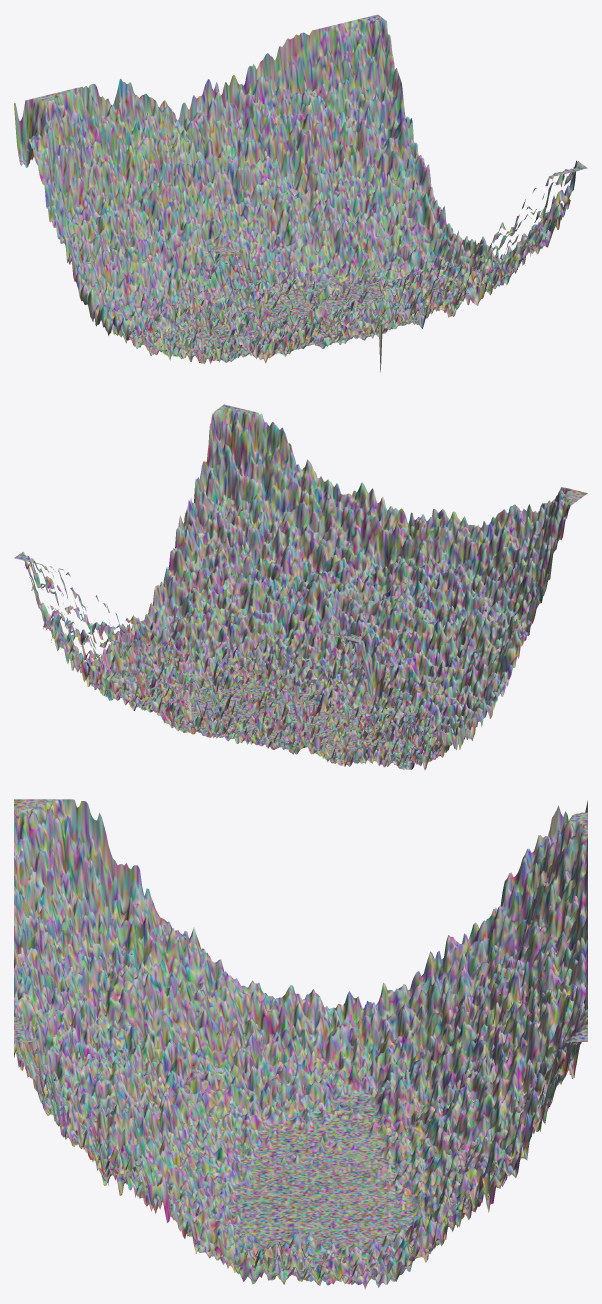
Rendered from dsm_4e77c10e48_mesh.glb.
3 views of the same model, one above another, from view 1: azimuth 30°, elevation 25°; view 2: azimuth 150°, elevation 25°; view 3: azimuth 270°, elevation 25° (orthographic). The views are drawn at different scales.
Parts seen in each view (by area): view 1: geometry_0; view 2: geometry_0; view 3: geometry_0.
Part boxes in pixels (bbox=[...]): geometry_0: bbox=[14, 14, 587, 372]; geometry_0: bbox=[14, 404, 587, 769]; geometry_0: bbox=[14, 799, 587, 1289].
Size of the model in its own units: 2 by 1 by 2.
